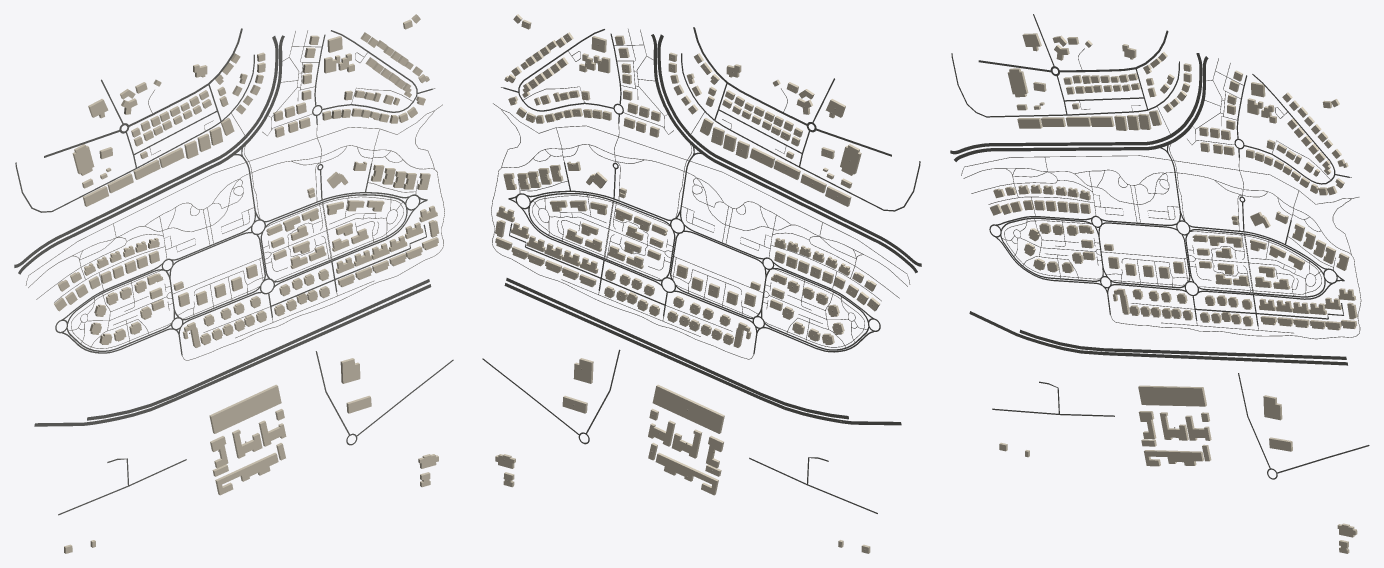
File: historic-palestine-07_25_3494_3198.glb
3 renders of one model, left to right at view 1: azimuth 30°, elevation 25°; view 2: azimuth 150°, elevation 25°; view 3: azimuth 330°, elevation 25°, orthographic. The views are drawn at different scales.
Parts seen in each view (by area): view 1: Building_.147, Road 453.001, Road שדרות עמק איילון.001, Road שדרות עמק איילון, Road 453, Road .075, Building_.145, Road .001; view 2: Building_.147, Road 453.001, Road שדרות עמק איילון, Road שדרות עמק איילון.001, Road 453, Road .075, Building_.145; view 3: Building_.147, Road 453.001, Road שדרות עמק איילון, Road שדרות עמק איילון.001, Road 453, Road .075, Building_.145.
Part boxes in pixels (x1,y1,x2,y2): Building_.147: (209,384,281,433); Road 453.001: (87,279,429,420); Road שדרות עמק איילון.001: (18,35,284,274); Road שדרות עמק איילון: (14,36,278,267); Road 453: (107,284,431,422); Road .075: (28,145,444,360); Building_.145: (215,452,278,495); Road .001: (25,104,442,285); Building_.147: (652,384,724,433); Road 453.001: (506,278,848,419); Road שדרות עמק איילון: (657,34,921,266); Road שדרות עמק איילון.001: (651,34,917,273); Road 453: (504,283,828,420); Road .075: (491,144,907,359); Building_.145: (655,452,718,495); Building_.147: (1138,385,1206,406); Road 453.001: (1019,329,1346,359); Road שדרות עמק איילון: (950,53,1202,154); Road שדרות עמק איילון.001: (954,56,1208,161); Road 453: (1039,340,1347,365); Road .075: (963,168,1361,339); Building_.145: (1144,450,1203,466).
Size of the model in its own units: 1089 by 1192 by 8.7.
